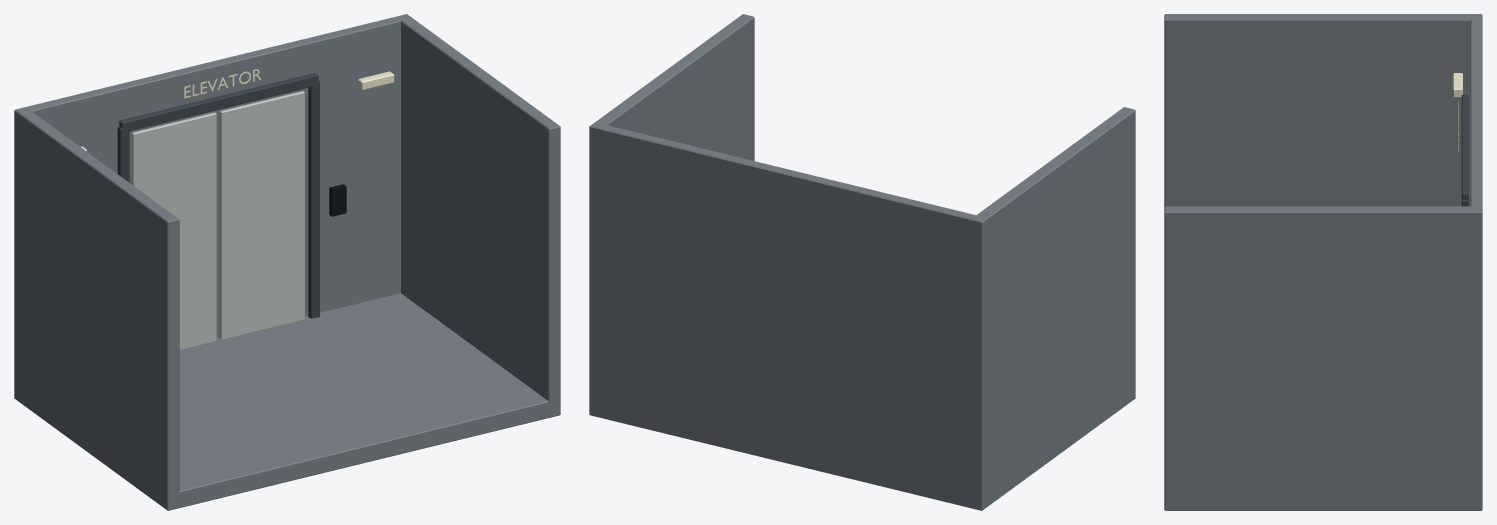
File: ElevatorHallModule.fbx
The picture shows the model from 3 angles, left to right: view 1: azimuth 30°, elevation 25°; view 2: azimuth 150°, elevation 25°; view 3: azimuth 270°, elevation 25°; orthographic projection. The views are drawn at different scales.
Parts seen in each view (by area): view 1: ElevatorHallModule; view 2: ElevatorHallModule; view 3: ElevatorHallModule.
Part boxes in pixels (box(x1,y1,x2,y2)): ElevatorHallModule: box(14, 14, 560, 510); ElevatorHallModule: box(589, 14, 1135, 510); ElevatorHallModule: box(1164, 14, 1482, 510).
Bounding box in the file's own units: 384 × 270 × 260.
1 material, 1 textured.
